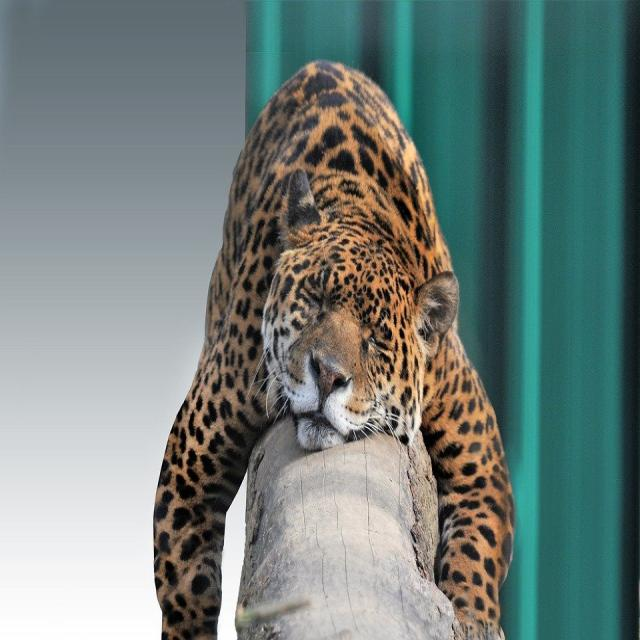Jaguar: (151, 56, 517, 640)
